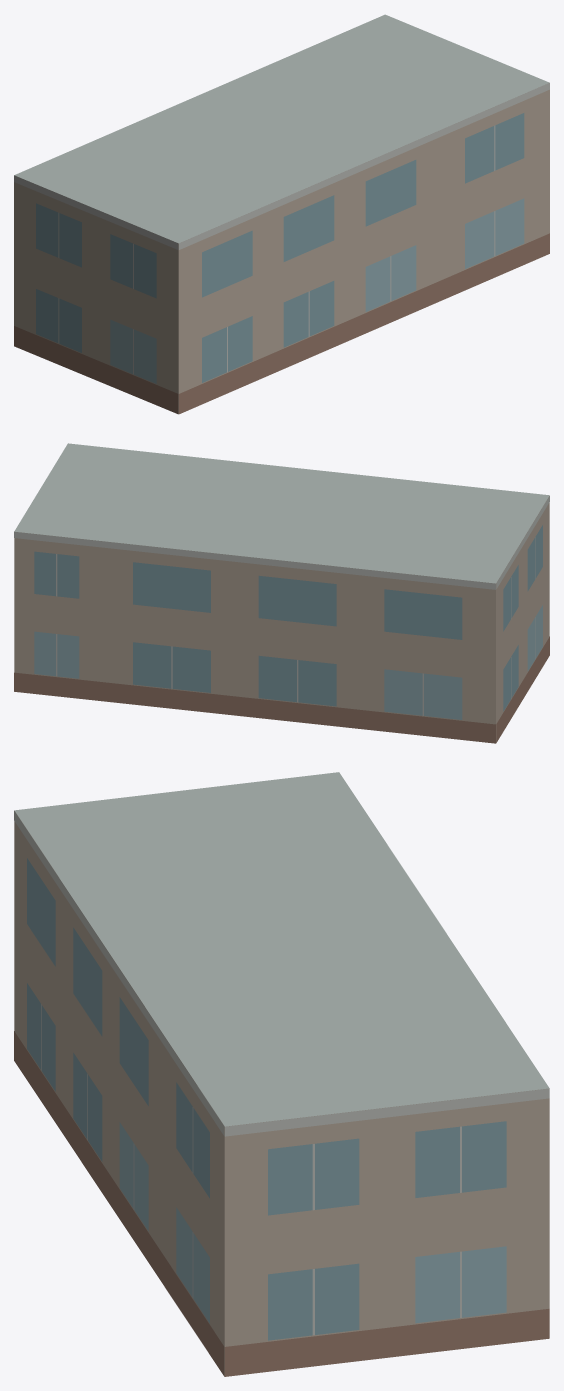
Rendered from survey-upis-32817514.glb.
3 renders of one model, top to bottom at view 1: azimuth 30°, elevation 25°; view 2: azimuth 150°, elevation 25°; view 3: azimuth 270°, elevation 25°, orthographic. The views are drawn at different scales.
Parts seen in each view (by area): view 1: survey-upis-32817514.tmp; view 2: survey-upis-32817514.tmp; view 3: survey-upis-32817514.tmp.
Boxes of the visible parts, x1=… form: survey-upis-32817514.tmp: x1=14, y1=14, x2=549, y2=414; survey-upis-32817514.tmp: x1=14, y1=443, x2=549, y2=743; survey-upis-32817514.tmp: x1=14, y1=772, x2=549, y2=1376.
Size of the model in its own units: 18.55 by 6.1 by 11.84.
